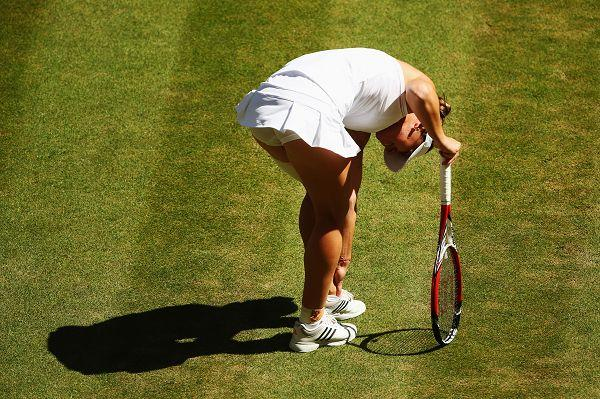bending: (229, 39, 464, 356)
